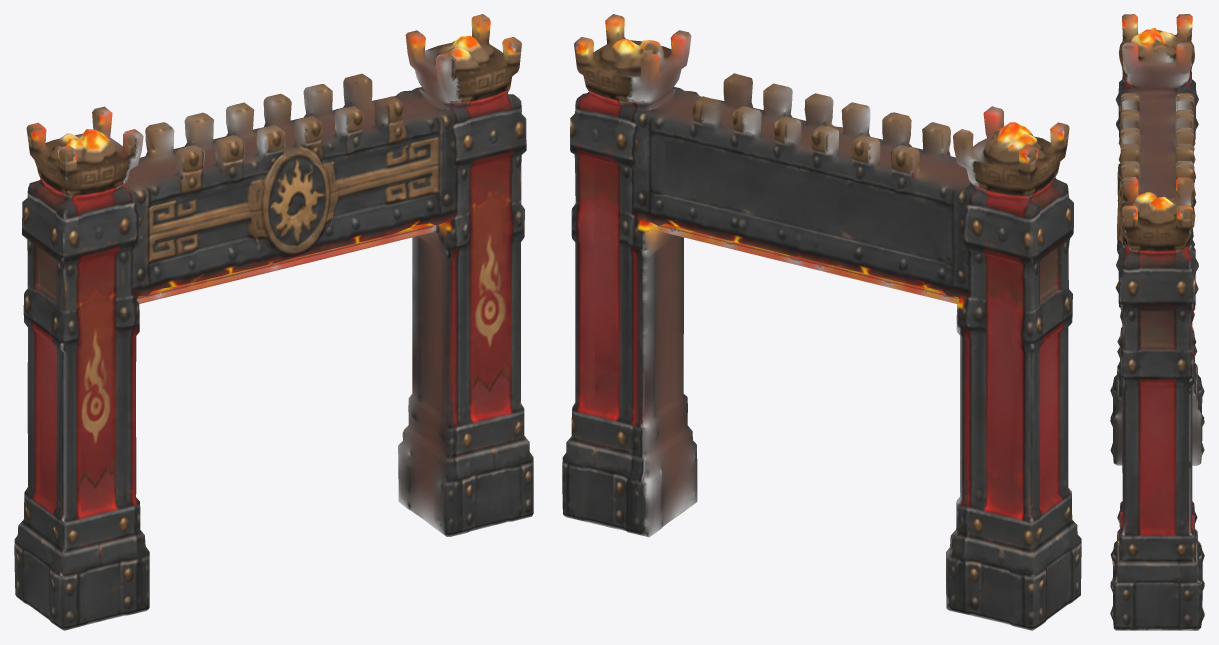
Rendered from SM_Tripo_InfernoGateway.glb.
3 views of the same model, side by side, from view 1: azimuth 30°, elevation 25°; view 2: azimuth 150°, elevation 25°; view 3: azimuth 270°, elevation 25° (orthographic). The views are drawn at different scales.
Visible parts, largest first — view 1: SM_Tripo_InfernoGateway_LOD0; view 2: SM_Tripo_InfernoGateway_LOD0; view 3: SM_Tripo_InfernoGateway_LOD0.
Part boxes in pixels (bbox=[...]): SM_Tripo_InfernoGateway_LOD0: bbox=[14, 14, 533, 630]; SM_Tripo_InfernoGateway_LOD0: bbox=[562, 14, 1081, 630]; SM_Tripo_InfernoGateway_LOD0: bbox=[1110, 14, 1204, 630].
Bounding box in the file's own units: 11.31 × 10.75 × 2.2.
Materials: 1 (1 with a texture image).
